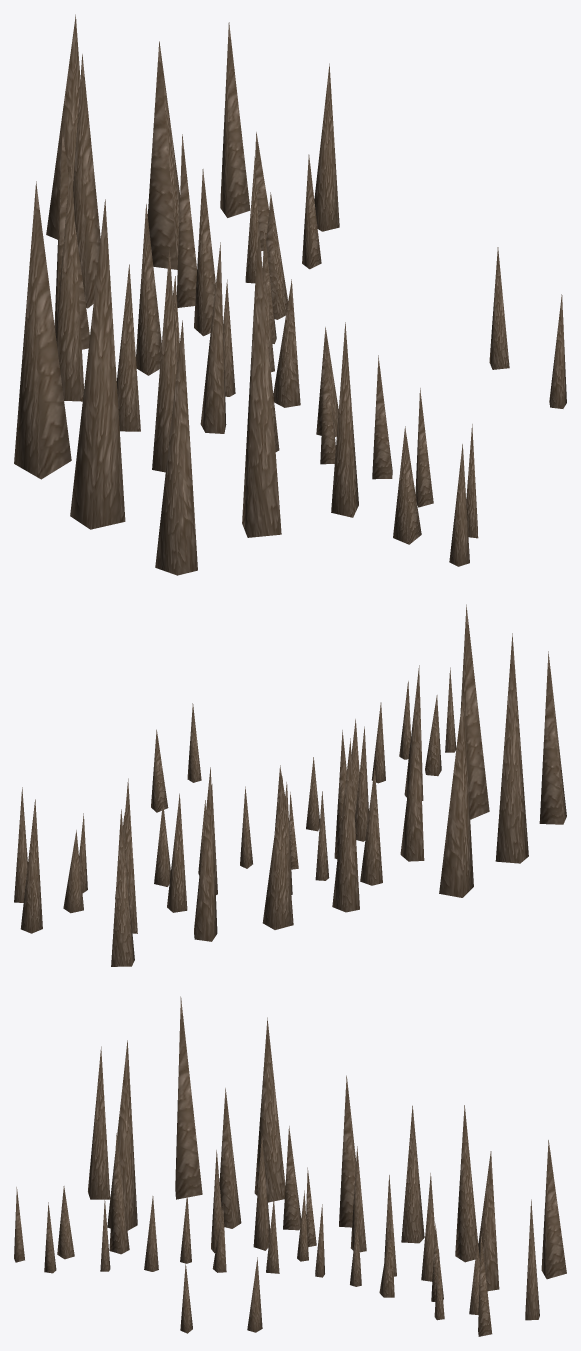
File: area_08_24.fbx
The picture shows the model from 3 angles, top to bottom: view 1: azimuth 30°, elevation 25°; view 2: azimuth 150°, elevation 25°; view 3: azimuth 270°, elevation 25°; orthographic projection. The views are drawn at different scales.
Visible parts, largest first — view 1: area_08_24; view 2: area_08_24; view 3: area_08_24.
Boxes of the visible parts, box(x1,y1,x2,y2) form: area_08_24: box(14, 14, 566, 575); area_08_24: box(14, 604, 566, 966); area_08_24: box(14, 996, 566, 1336).
Bounding box in the file's own units: 28.85 × 17.92 × 44.95.
